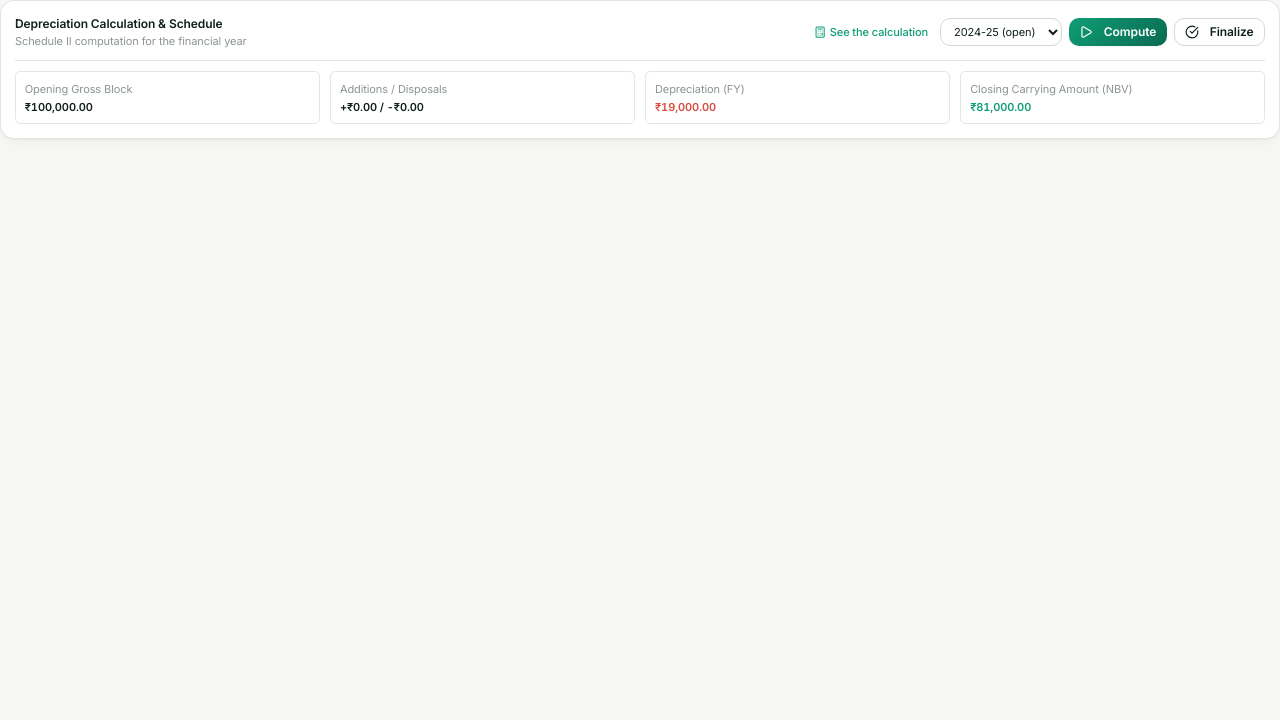
Test: DepreciationRunCard calculation drawer › opens the recorded trace from the header link
This screenshot has width=1280, height=720.
Step 1. Click the button "See the calculation" → (871, 32), box [809,20,933,44]
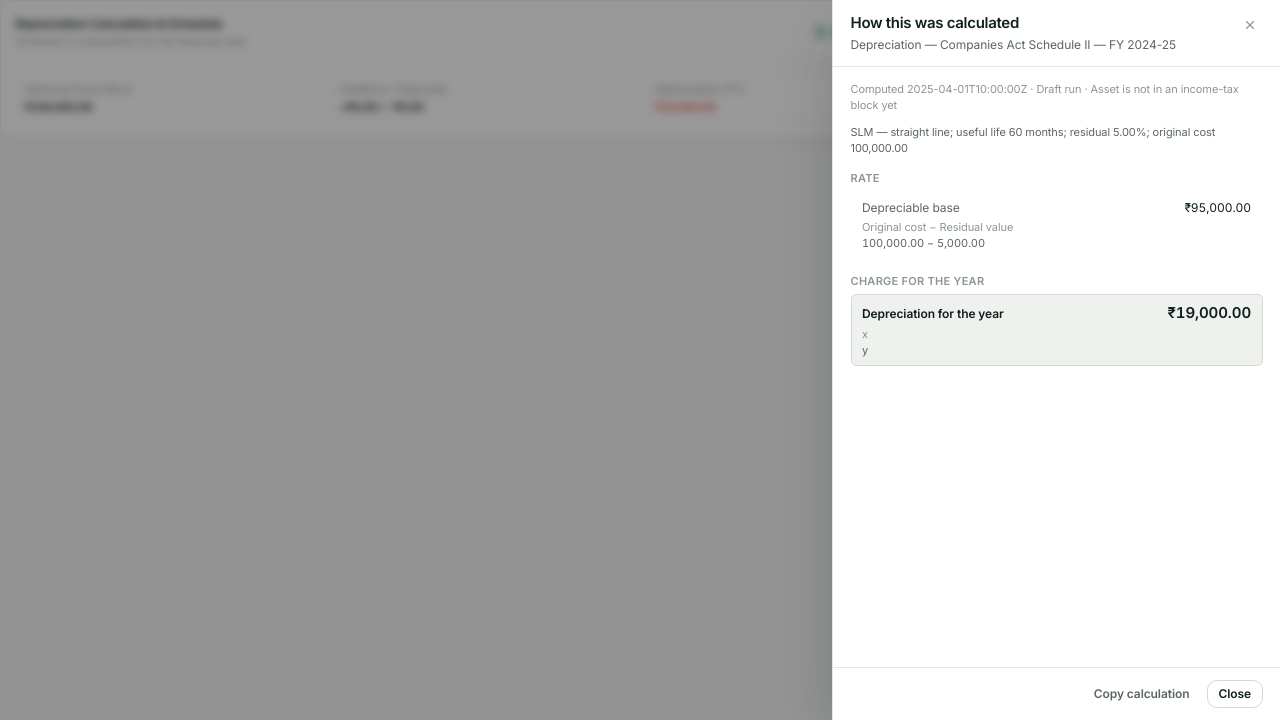
Check: the text "Depreciable base" is shown, box [862,199,960,217]
Check: the text "Computed" is shown, box [850,82,907,96]
